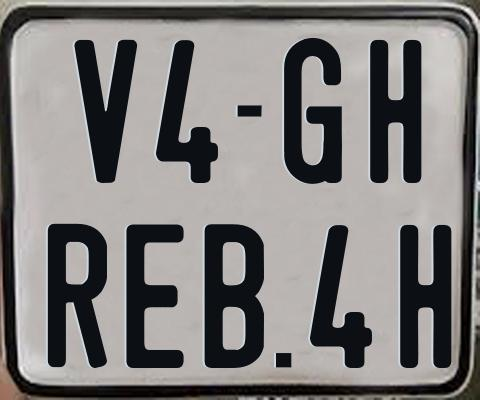4: (307, 224, 372, 368), (154, 39, 217, 182)
B: (203, 221, 263, 365)
E: (124, 221, 182, 367)
G: (284, 38, 342, 186)
H: (398, 225, 451, 369), (367, 37, 420, 180)
R: (47, 223, 107, 369)
V: (71, 39, 134, 182)
